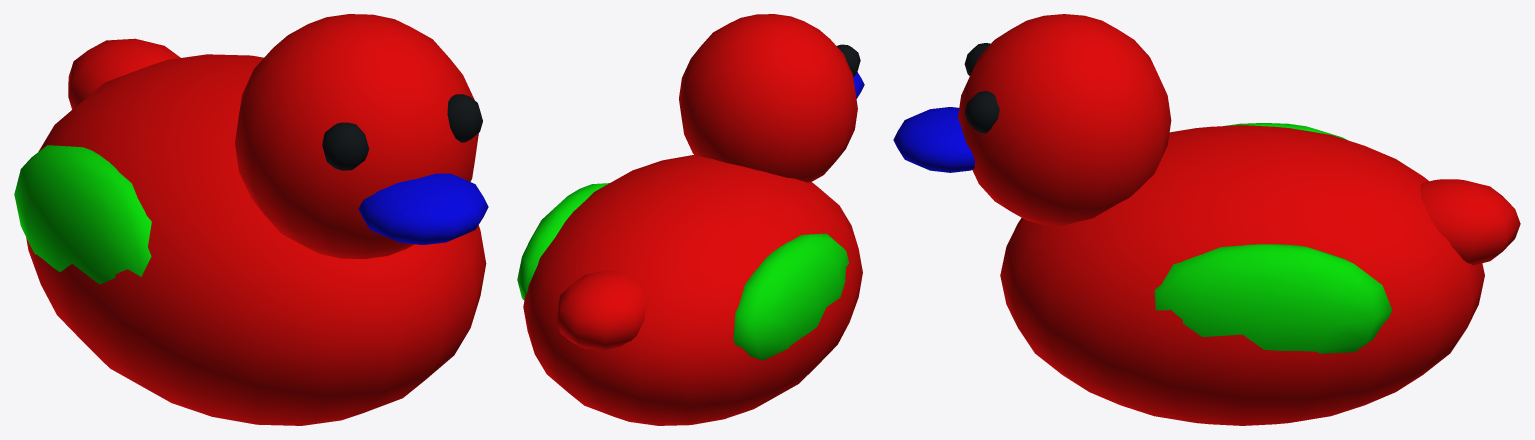
The model's file is fish_duck.glb.
3 views of the same model, side by side, from view 1: azimuth 30°, elevation 25°; view 2: azimuth 150°, elevation 25°; view 3: azimuth 270°, elevation 25° (orthographic). The views are drawn at different scales.
Visible parts, largest first — view 1: Body, Eye; view 2: Body, Eye; view 3: Body, Eye.
Part boxes in pixels (x1,y1,x2,y2): Body: (14,14,488,425); Eye: (322,94,482,170); Body: (517,14,864,425); Eye: (837,44,860,76); Body: (893,14,1520,425); Eye: (964,43,999,133).
Size of the model in its own units: 0.52 by 0.59 by 0.88.
